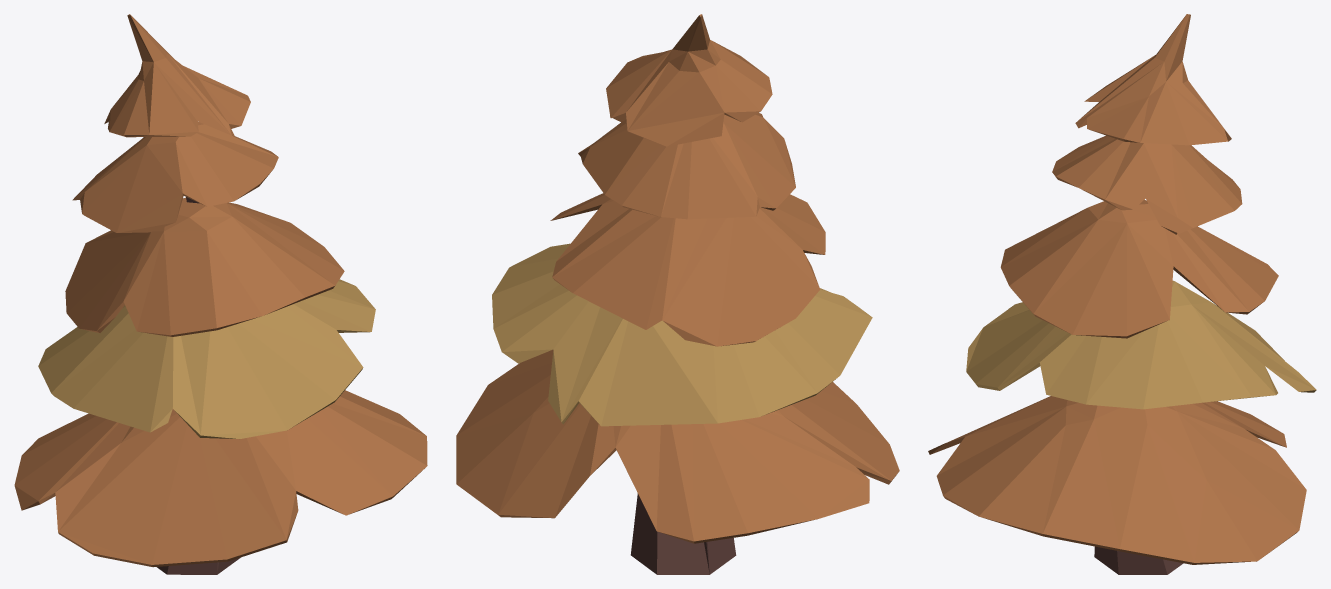
The model's file is q-pine-autumn.lod.glb.
3 renders of one model, left to right at view 1: azimuth 30°, elevation 25°; view 2: azimuth 150°, elevation 25°; view 3: azimuth 270°, elevation 25°, orthographic. The views are drawn at different scales.
Bounding box in the file's own units: 1.95 × 2.7 × 1.82.
